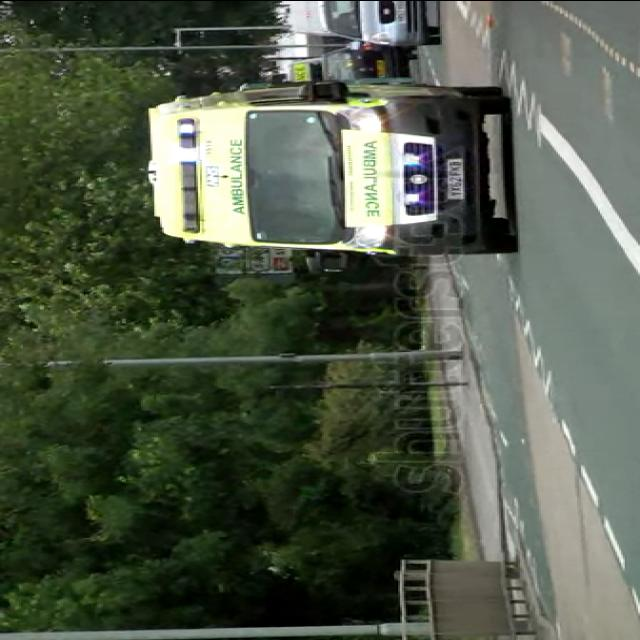ambulance: (142, 76, 512, 264)
